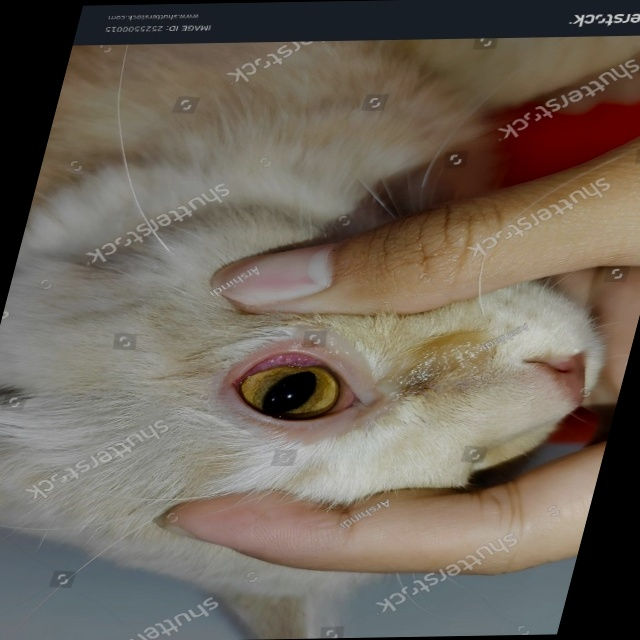eye_infection: (219, 348, 380, 431)
